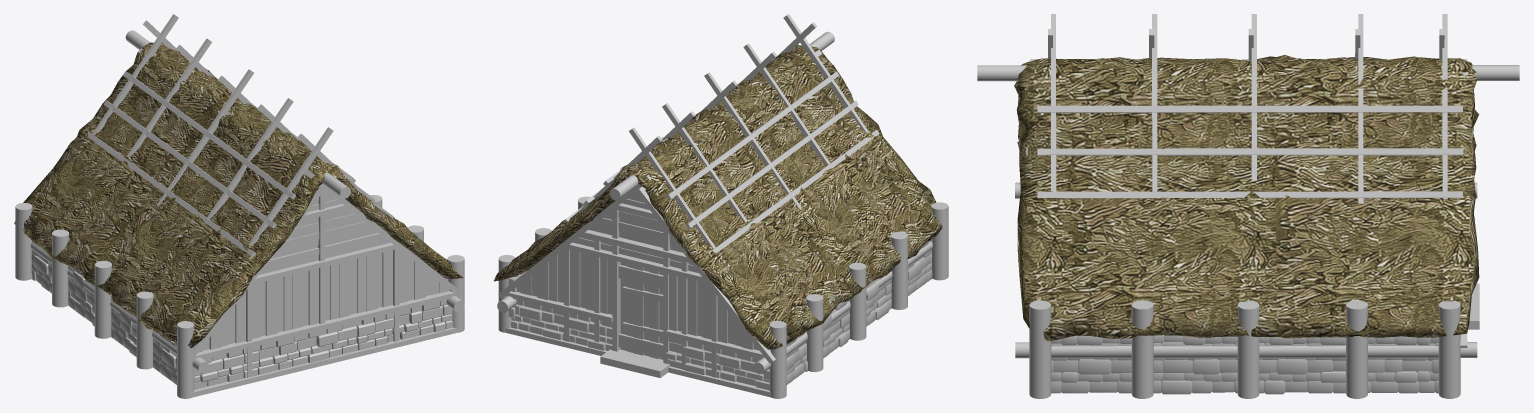
The model's file is lowpoly_viking_house_002.fbx.
3 views of the same model, side by side, from view 1: azimuth 30°, elevation 25°; view 2: azimuth 150°, elevation 25°; view 3: azimuth 270°, elevation 25° (orthographic). The views are drawn at different scales.
Parts seen in each view (by area): view 1: Plane.012, Wall.157, Cube.2122, Cube.2010, Cylinder.084, Cube.2142, Cylinder.078, Cube.2141, Cube.2118, Cylinder.085, Cube.2140, Cylinder.077 (+33 smaller); view 2: Plane.012, Wall.157, Cube.2126, Cube.2108, Cube.2142, Cube.2141, Cylinder.085, Cylinder.078, Cube.2110, Cylinder.084, Cylinder.041, Cube.2140 (+32 smaller); view 3: Plane.012, Wall.157, Cylinder.081, Cube.2137, Cube.2138, Cube.2139, Cylinder.083, Cylinder.086, Cylinder.079, Cylinder.048, Cylinder.074, Cylinder.082 (+5 smaller).
Boxes of the visible parts, left/top/right/bottom form: Plane.012: left=14, top=42, right=463, bottom=348; Wall.157: left=31, top=216, right=452, bottom=389; Cube.2122: left=192, top=291, right=457, bottom=361; Cube.2010: left=192, top=327, right=457, bottom=397; Cylinder.084: left=177, top=321, right=194, bottom=398; Cube.2142: left=123, top=71, right=295, bottom=199; Cylinder.078: left=94, top=261, right=111, bottom=338; Cube.2141: left=103, top=100, right=276, bottom=228; Cube.2118: left=251, top=242, right=398, bottom=284; Cylinder.085: left=15, top=203, right=32, bottom=280; Cube.2140: left=83, top=129, right=255, bottom=257; Cylinder.077: left=52, top=229, right=68, bottom=307; Plane.012: left=494, top=44, right=942, bottom=349; Wall.157: left=508, top=240, right=931, bottom=390; Cube.2126: left=618, top=262, right=663, bottom=359; Cube.2108: left=505, top=327, right=771, bottom=397; Cube.2142: left=666, top=71, right=839, bottom=200; Cube.2141: left=685, top=100, right=858, bottom=228; Cylinder.085: left=769, top=321, right=786, bottom=398; Cylinder.078: left=849, top=262, right=866, bottom=340; Cube.2110: left=623, top=169, right=775, bottom=363; Cylinder.084: left=931, top=202, right=948, bottom=280; Cylinder.041: left=891, top=232, right=907, bottom=309; Cube.2140: left=708, top=129, right=879, bottom=256; Plane.012: left=1014, top=54, right=1479, bottom=341; Wall.157: left=1051, top=310, right=1438, bottom=394; Cylinder.081: left=1015, top=342, right=1477, bottom=358; Cube.2137: left=1037, top=105, right=1462, bottom=112; Cube.2138: left=1037, top=148, right=1462, bottom=155; Cube.2139: left=1037, top=191, right=1462, bottom=198; Cylinder.083: left=1029, top=300, right=1051, bottom=398; Cylinder.086: left=1438, top=301, right=1460, bottom=398; Cylinder.079: left=1237, top=300, right=1259, bottom=398; Cylinder.048: left=1131, top=300, right=1153, bottom=398; Cylinder.074: left=1346, top=300, right=1367, bottom=398; Cylinder.082: left=977, top=65, right=1519, bottom=81.
Size of the model in its own units: 3.87 by 2.92 by 4.92.
